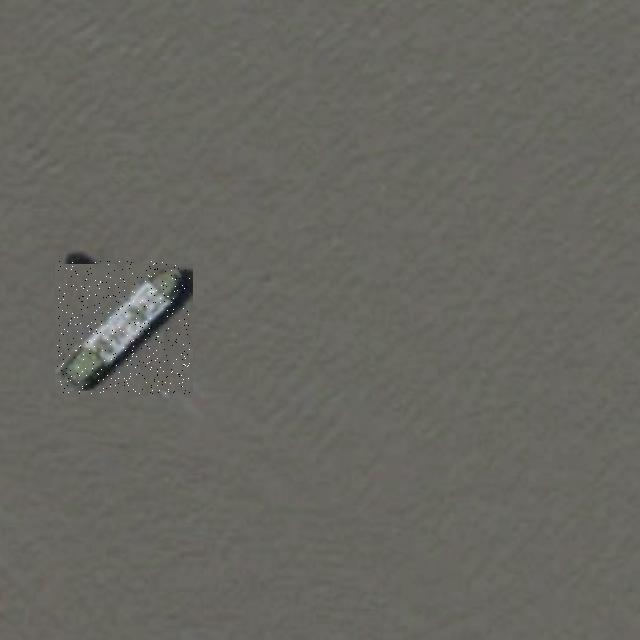boat: (57, 261, 190, 394)
